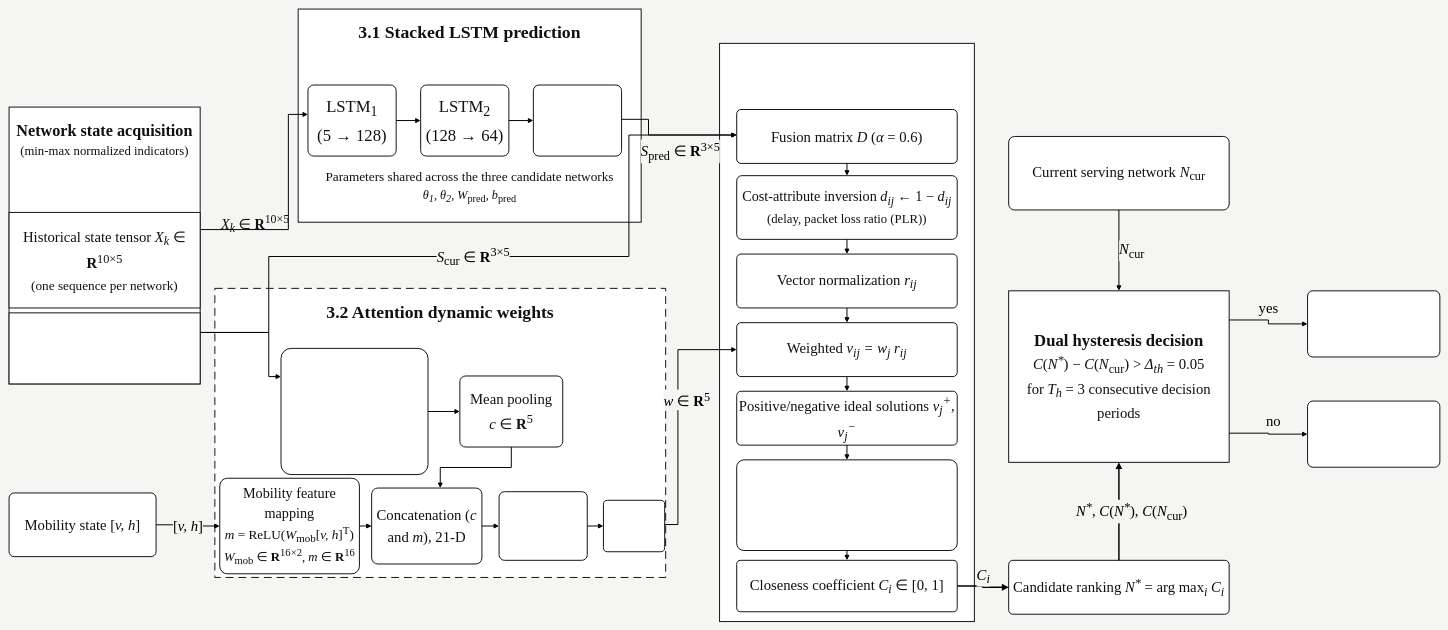
Image size: 1448x630. Some labels were removed from this diagram. The shapes that lost their labels are listed below. From the top down, each one's box as (x1, y1, x2, y2) in pixels, then its label:
(533, 84, 622, 156): fc pred (64 → 5)
(719, 43, 975, 622): 3.3 Improved TOPSIS decision
(1307, 290, 1440, 357): Switch to N * (target network identifier)
(8, 312, 200, 384): Current state matrix S cur ∈ R 3×5
(280, 348, 428, 475): Self-attention Q = K = V = S cur embed_dim = 5, num_heads = 1 A ∈ R 3×5
(1307, 400, 1440, 467): Keep N cur (no handover)
(736, 459, 957, 551): Euclidean distance D i + = √Σ j (v ij − v j + ) 2 D i − = √Σ j (v ij − v j − ) 2
(498, 491, 588, 561): W weight R 21 → R 5 Linear layer
(603, 500, 665, 552): softmax
